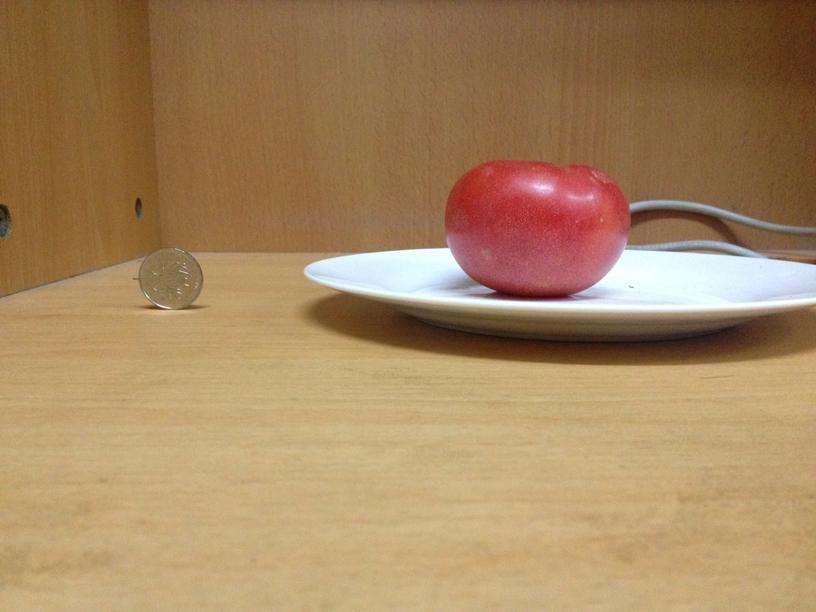coin: (137, 246, 205, 311)
tomato: (442, 156, 631, 297)
